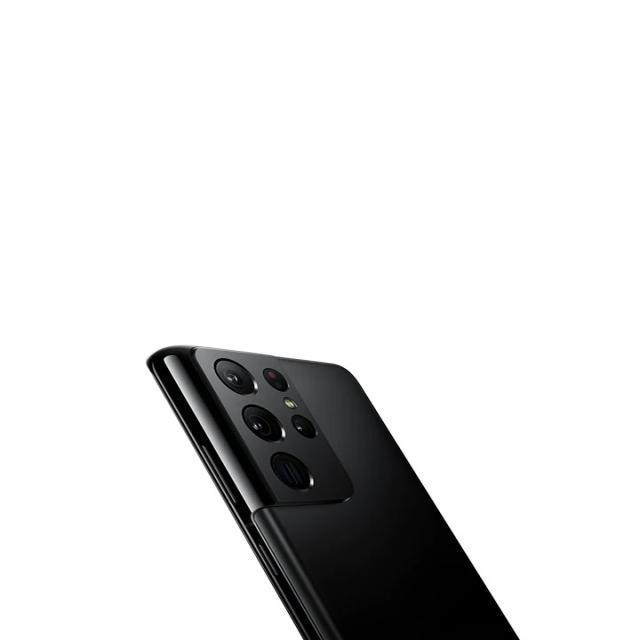Phone: (140, 343, 524, 640)
